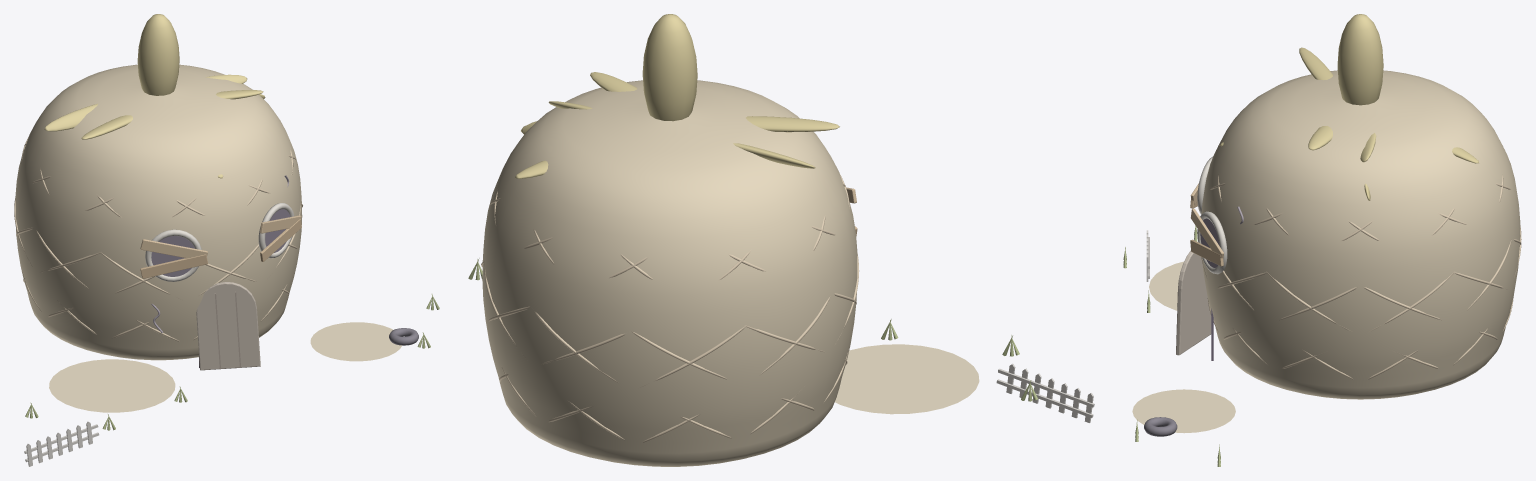
Rendered from building_fruit_L01.glb.
3 renders of one model, left to right at view 1: azimuth 30°, elevation 25°; view 2: azimuth 150°, elevation 25°; view 3: azimuth 270°, elevation 25°, orthographic. The views are drawn at different scales.
Visible parts, largest first — view 1: Body, fruit_L1; view 2: Body, fruit_L1; view 3: Body, fruit_L1.
Part boxes in pixels (x1,y1,x2,y2): Body: [14, 14, 302, 370]; fruit_L1: [24, 294, 439, 466]; Body: [481, 14, 859, 466]; fruit_L1: [468, 258, 1094, 422]; Body: [1176, 14, 1521, 399]; fruit_L1: [1123, 225, 1235, 466].
Size of the model in its own units: 24.39 by 17.08 by 16.92.
